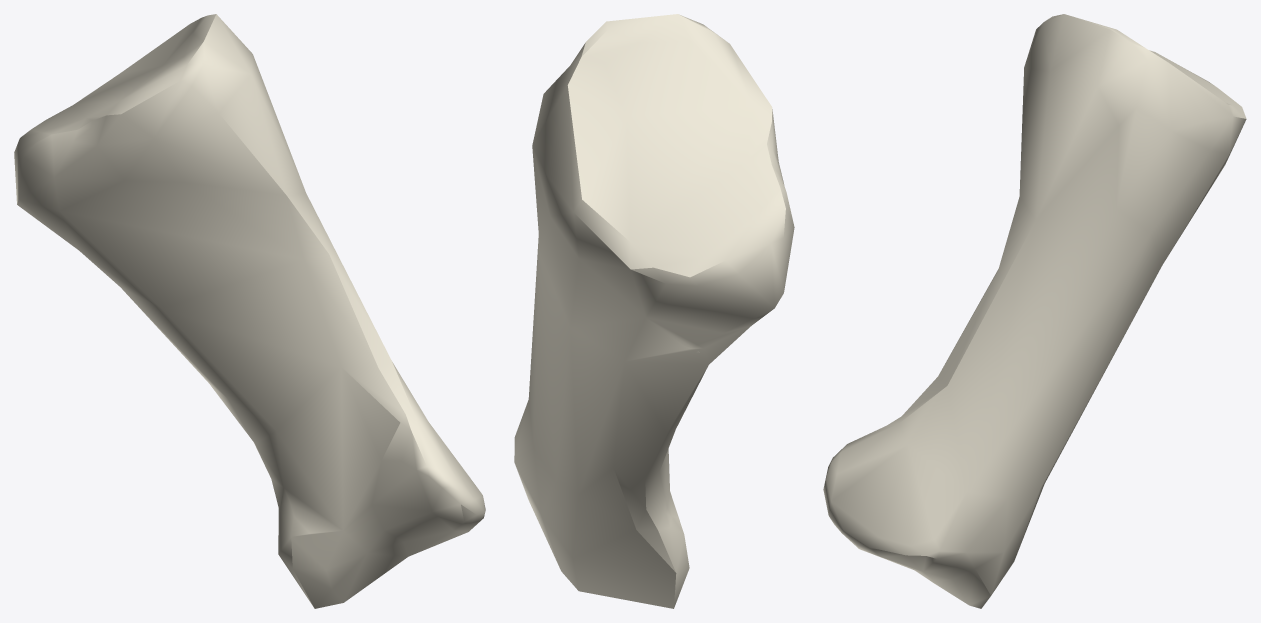
File: fma65470_fj6414.glb
3 views of the same model, side by side, from view 1: azimuth 30°, elevation 25°; view 2: azimuth 150°, elevation 25°; view 3: azimuth 270°, elevation 25° (orthographic). The views are drawn at different scales.
Parts seen in each view (by area): view 1: FMA65470_FJ6414; view 2: FMA65470_FJ6414; view 3: FMA65470_FJ6414.
Boxes of the visible parts, <box> form: FMA65470_FJ6414: <box>14,14,485,608</box>; FMA65470_FJ6414: <box>514,14,794,608</box>; FMA65470_FJ6414: <box>823,14,1246,608</box>.
Size of the model in its own units: 0.0202 by 0.0315 by 0.0222.
